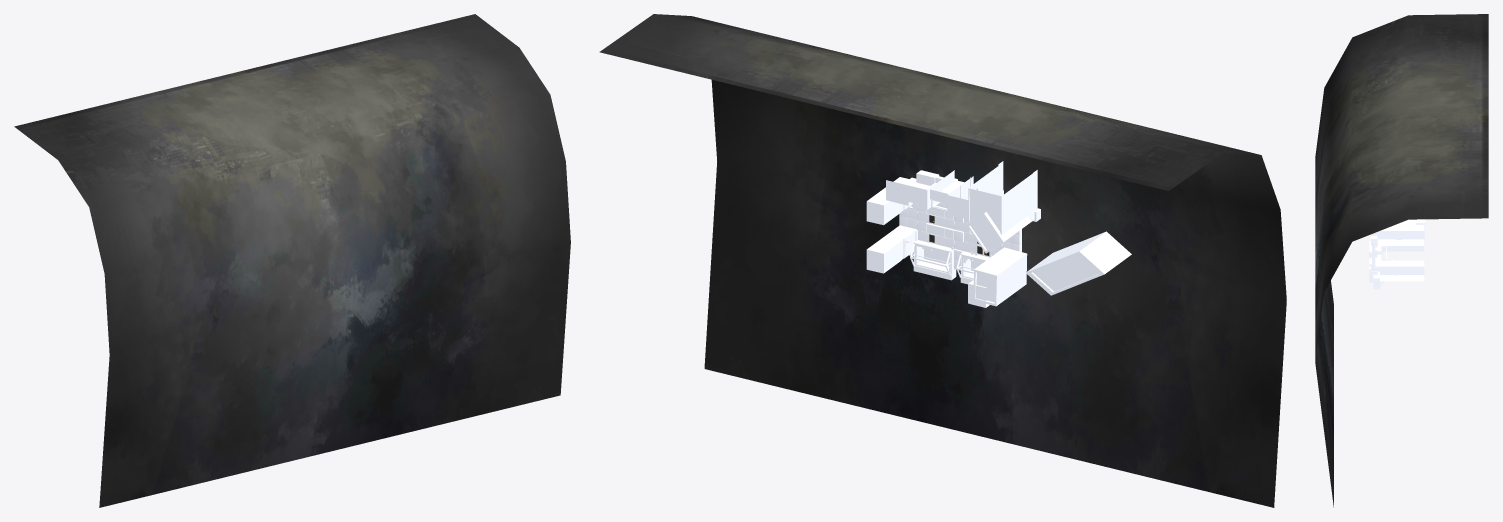
Rendered from BATTLE.fbx.
3 renders of one model, left to right at view 1: azimuth 30°, elevation 25°; view 2: azimuth 150°, elevation 25°; view 3: azimuth 270°, elevation 25°, orthographic. The views are drawn at different scales.
Parts seen in each view (by area): view 1: BG_Qcity; view 2: BG_Qcity, Shadow (5), S_Outworld_prop_0109, Shadow (4), S_Outworld_prop_0547, S_Outworld_prop_015, OP_18, Shadow (1), S_Outworld_prop_0442; view 3: BG_Qcity, S_Outworld_prop_0547, S_Outworld_prop_0442, S_Outworld_prop_0565.
Boxes of the visible parts, left/top/right/bottom form: BG_Qcity: left=14, top=14, right=570, bottom=507; BG_Qcity: left=599, top=14, right=1286, bottom=507; Shadow (5): left=1026, top=231, right=1131, bottom=295; S_Outworld_prop_0109: left=968, top=161, right=1037, bottom=236; Shadow (4): left=973, top=247, right=1027, bottom=306; S_Outworld_prop_0547: left=866, top=225, right=916, bottom=273; S_Outworld_prop_015: left=886, top=170, right=954, bottom=210; OP_18: left=913, top=240, right=956, bottom=280; Shadow (1): left=966, top=212, right=1031, bottom=253; S_Outworld_prop_0442: left=866, top=177, right=916, bottom=225; BG_Qcity: left=1315, top=14, right=1488, bottom=507; S_Outworld_prop_0547: left=1375, top=260, right=1424, bottom=281; S_Outworld_prop_0442: left=1377, top=225, right=1424, bottom=245; S_Outworld_prop_0565: left=1383, top=246, right=1424, bottom=251.
Bounding box in the file's own units: 0.6164 × 0.4073 × 0.2212.
